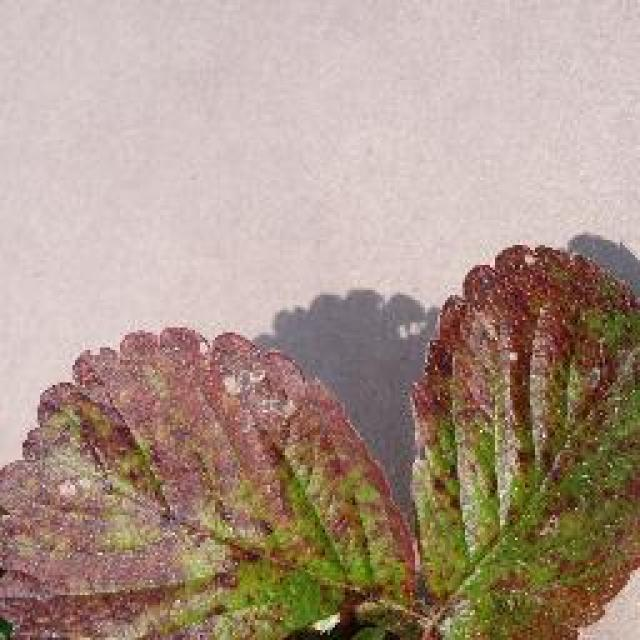Strawberry___Leaf_scorch: (0, 310, 440, 640), (392, 225, 640, 637)
